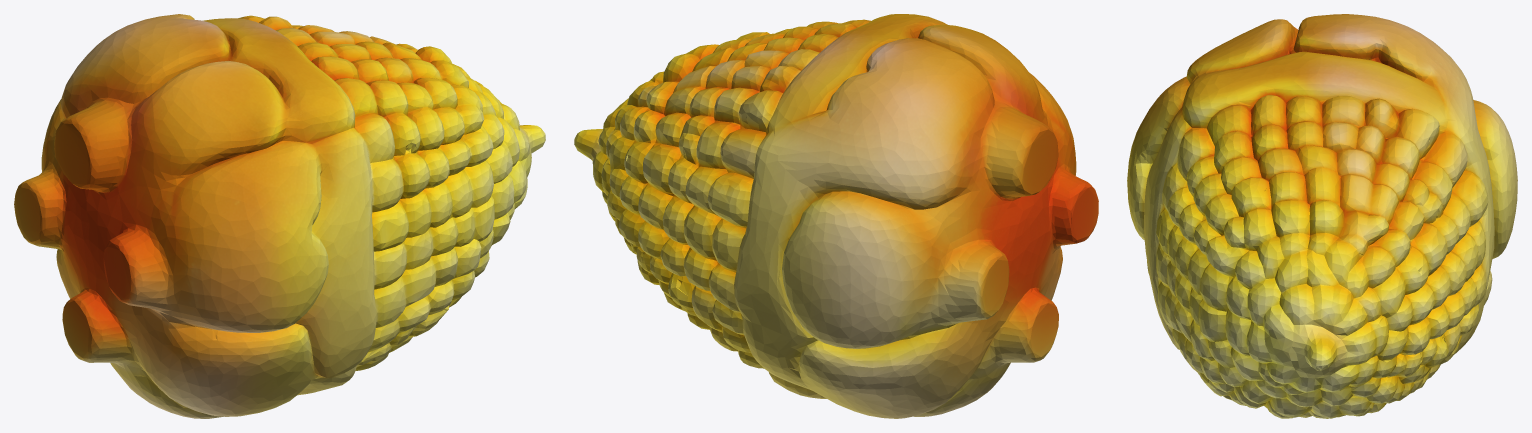
File: food_pile_large_comfyui.glb
3 views of the same model, side by side, from view 1: azimuth 30°, elevation 25°; view 2: azimuth 150°, elevation 25°; view 3: azimuth 270°, elevation 25° (orthographic). The views are drawn at different scales.
Size of the model in its own units: 1 by 0.7447 by 0.7453.
1 material, 1 textured.
